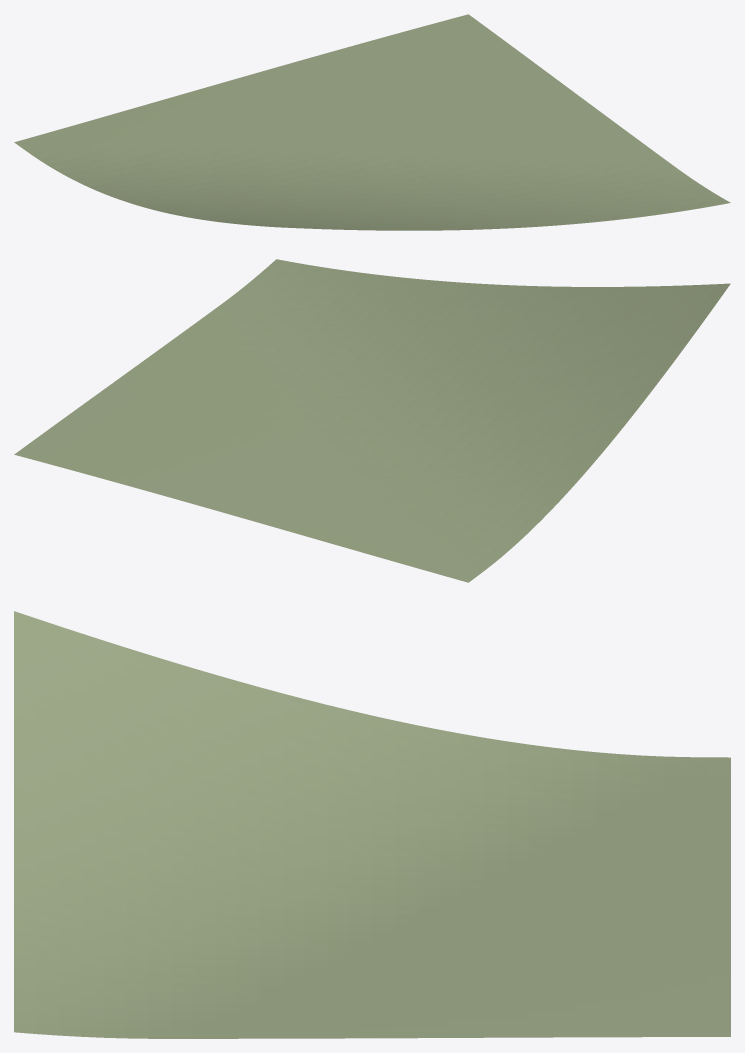
Rendered from expanse-23-2.glb.
The picture shows the model from 3 angles, top to bottom: view 1: azimuth 30°, elevation 25°; view 2: azimuth 150°, elevation 25°; view 3: azimuth 270°, elevation 25°; orthographic projection. The views are drawn at different scales.
Visible parts, largest first — view 1: expanse-23-2; view 2: expanse-23-2; view 3: expanse-23-2.
Boxes of the visible parts, x1,y1,x2,y2 form: expanse-23-2: [14, 14, 730, 230]; expanse-23-2: [14, 259, 730, 582]; expanse-23-2: [14, 611, 730, 1038].
Size of the model in its own units: 256 by 57.69 by 256.
